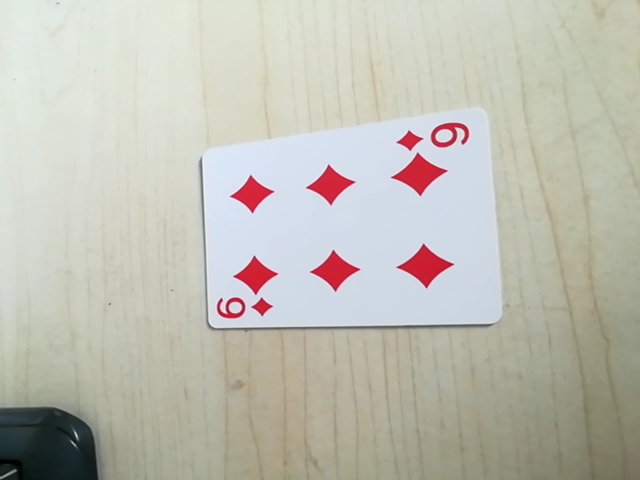fk 6: (395, 118, 472, 156), (212, 292, 274, 326)
